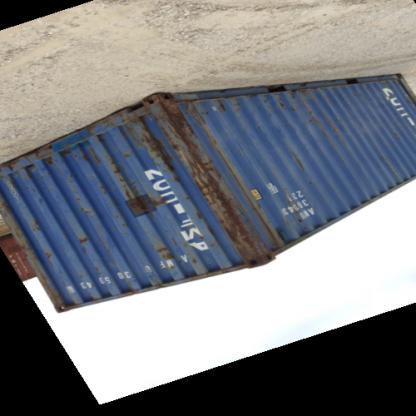Damage: (186, 100, 284, 256), (120, 104, 182, 187), (303, 96, 351, 140), (110, 170, 144, 209), (290, 148, 316, 190), (189, 215, 220, 249), (70, 183, 96, 223), (62, 146, 108, 168), (152, 244, 182, 274), (25, 214, 45, 241), (22, 158, 42, 184), (76, 234, 94, 254), (46, 143, 58, 173), (40, 247, 58, 265), (73, 268, 89, 288), (146, 198, 164, 215), (187, 258, 202, 272)
